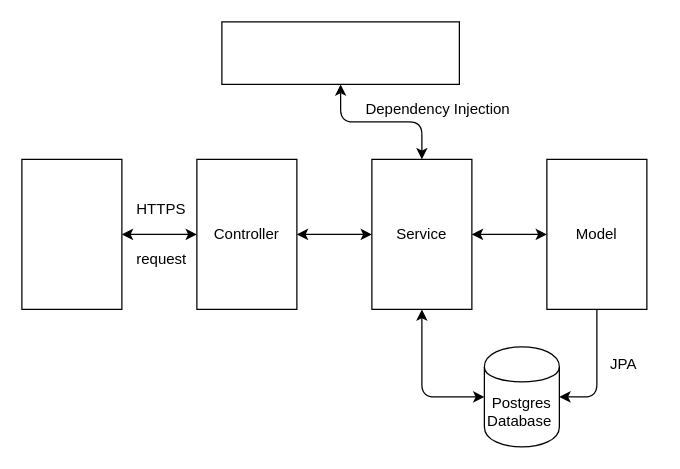
This 680x469 diagram has some shape labels left out. The centre of each missing label's shape, as x and y in pixels:
"Client" belongs at [71,233].
"Repository Class extending CRUD Services" belongs at [340,52].
